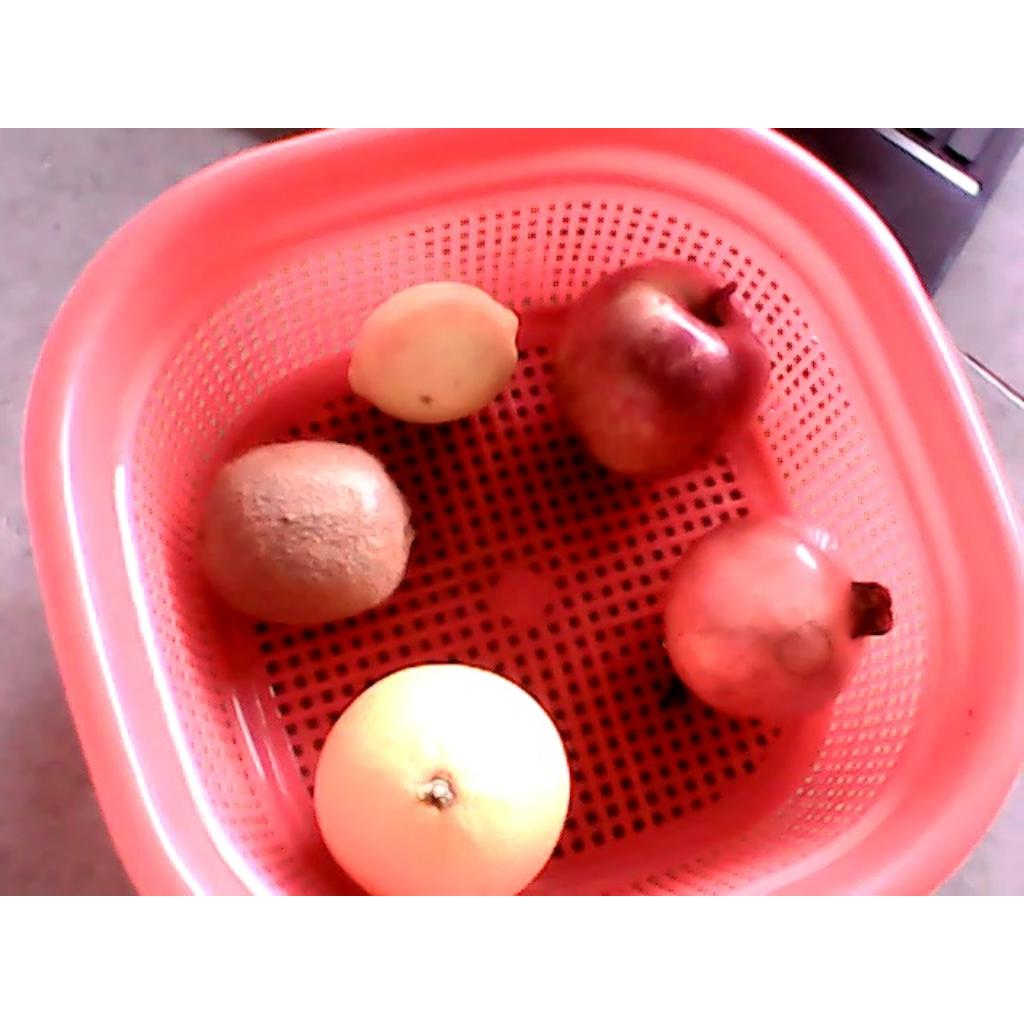apple: (554, 257, 775, 481)
kiwi: (196, 441, 417, 628)
lemon: (346, 281, 520, 425)
orange: (313, 664, 569, 894)
pomegranate: (665, 516, 896, 724)
